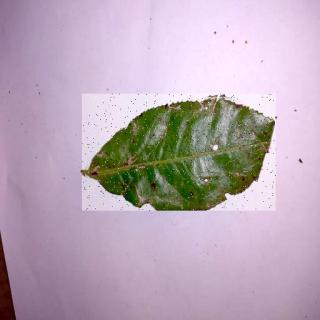Bird Eye Spot: (83, 95, 278, 212)
